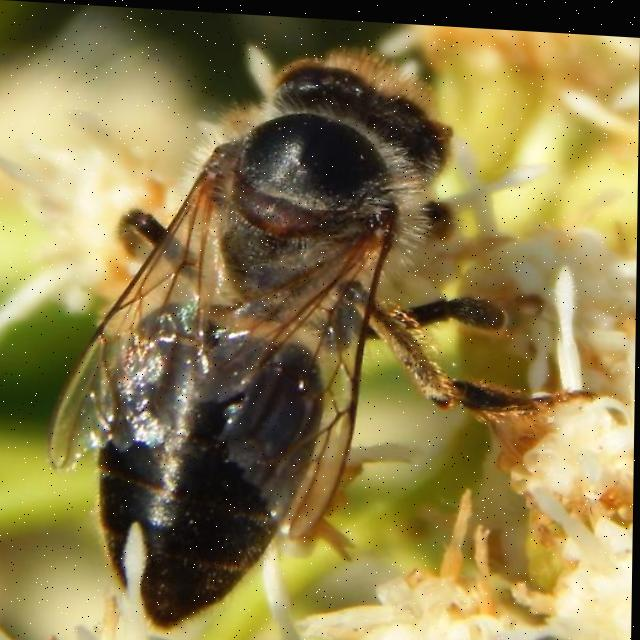Allodapula: (50, 17, 530, 640)
